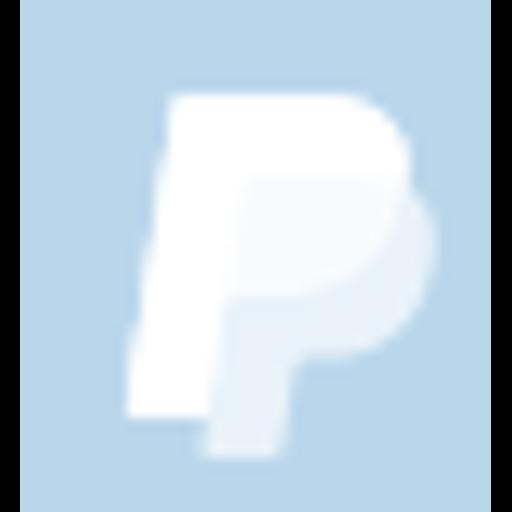PayPal: (20, 0, 491, 512)
